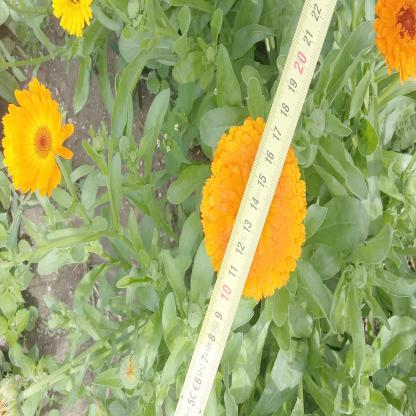marigold: (204, 120, 301, 302), (3, 85, 63, 197), (375, 0, 416, 75)
